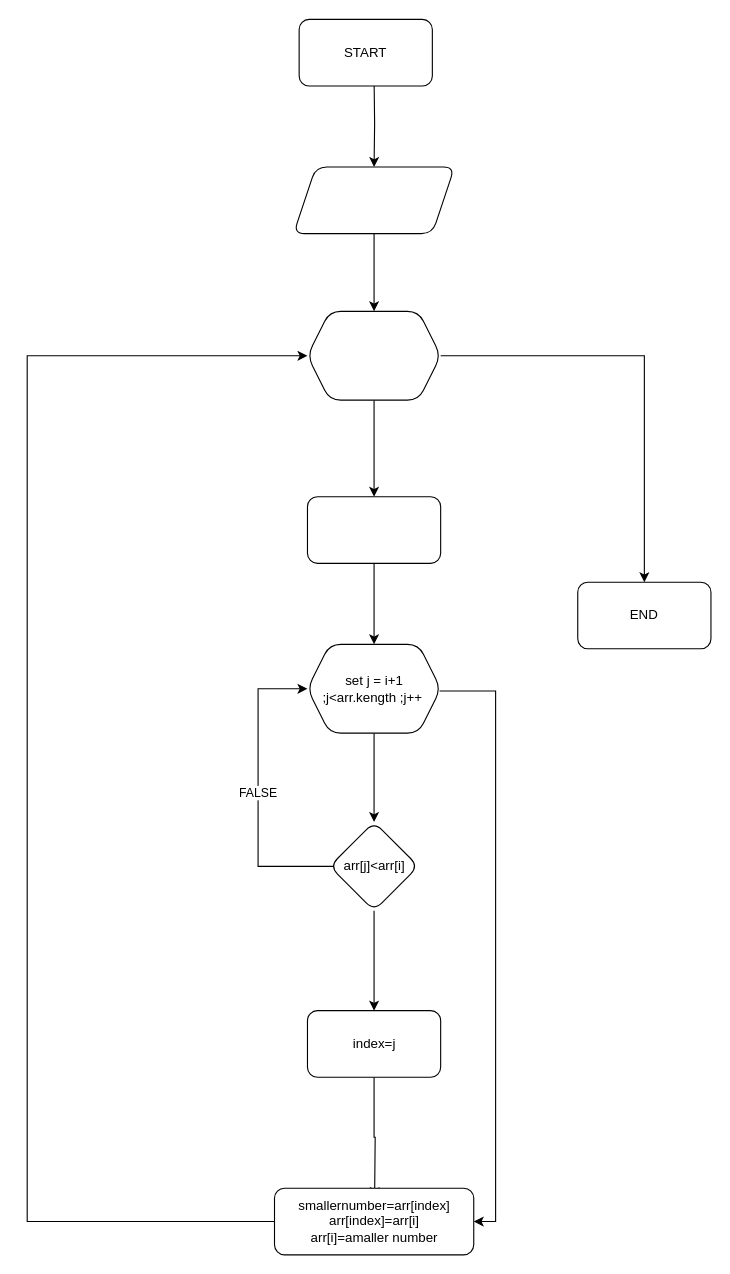
Some shapes in this 730 by 1274 pixel diagram are drawn without their labels. The shapes that lost their labels are listed below. From the top down, each one's centre as x and y in pixels, then its label:
At point (373, 200): "Arr=[10,20,35,45,60]".
At point (373, 355): "set i =0 ; i<arr.length;i++".
At point (373, 529): "set j = i+1".
